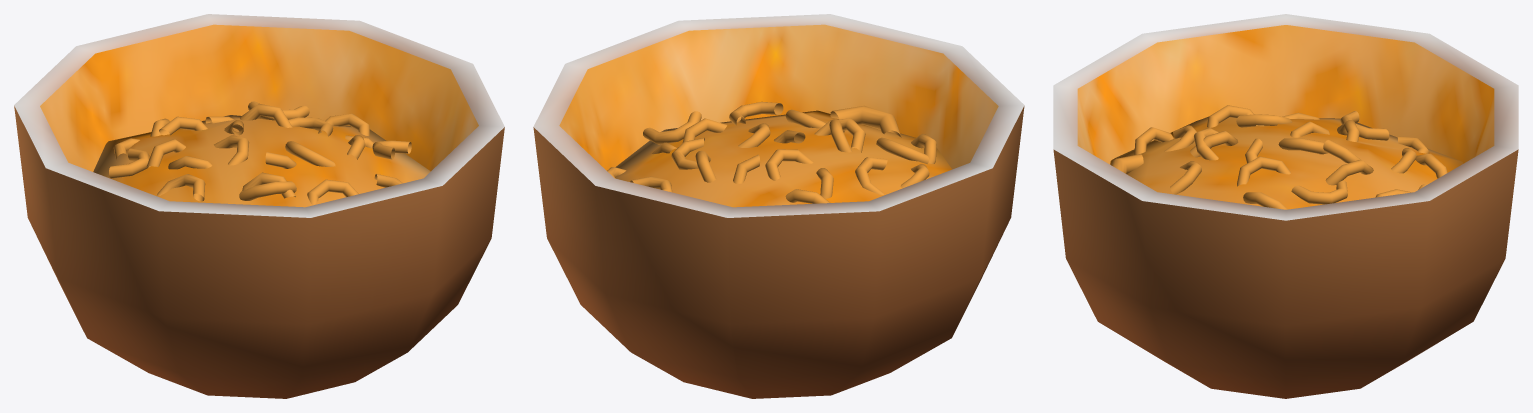
Rendered from Bowl_maccheese.fbx.
3 views of the same model, side by side, from view 1: azimuth 30°, elevation 25°; view 2: azimuth 150°, elevation 25°; view 3: azimuth 270°, elevation 25° (orthographic).
Visible parts, largest first — view 1: BowlSorbet; view 2: BowlSorbet; view 3: BowlSorbet.
Part boxes in pixels (left/top/right/bottom): BowlSorbet: left=14, top=14, right=504, bottom=398; BowlSorbet: left=533, top=14, right=1024, bottom=398; BowlSorbet: left=1053, top=14, right=1518, bottom=398.
Size of the model in its own units: 27.48 by 14.12 by 26.14.
